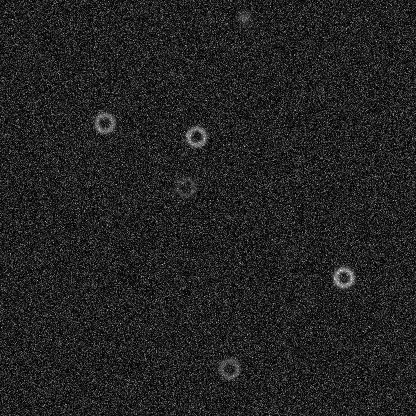Ring: (92, 110, 116, 134), (184, 124, 208, 148), (217, 356, 241, 380), (173, 175, 197, 199), (331, 265, 355, 289)
Spot: (235, 8, 251, 24)
